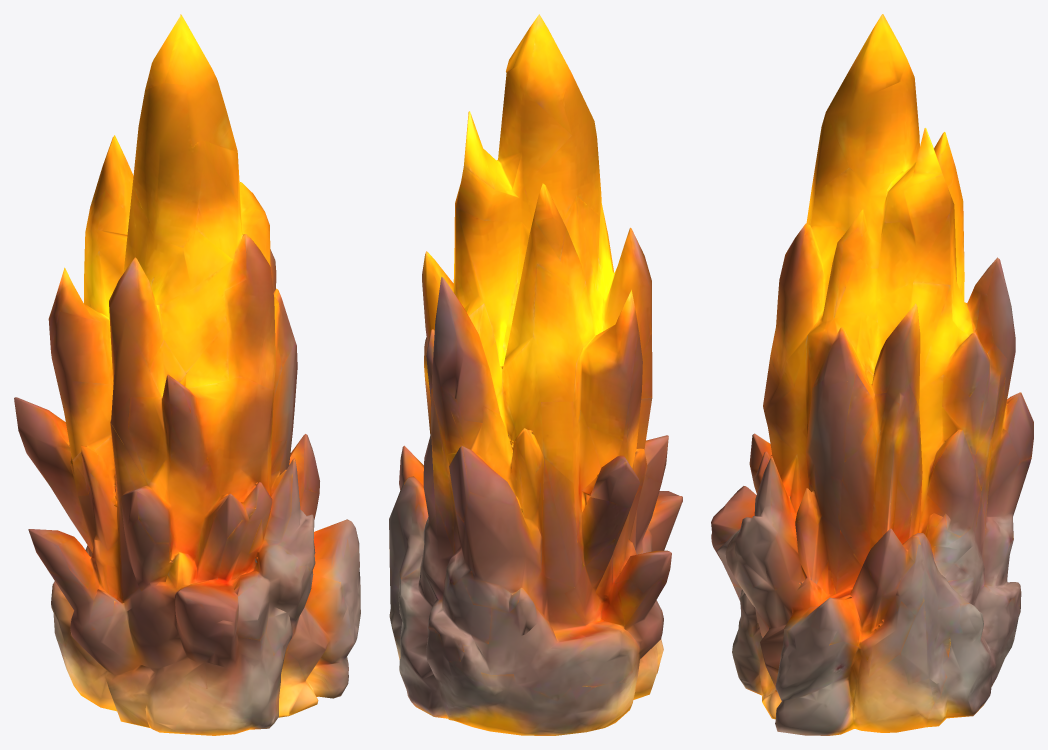
Rendered from deco_crystal.glb.
3 views of the same model, side by side, from view 1: azimuth 30°, elevation 25°; view 2: azimuth 150°, elevation 25°; view 3: azimuth 270°, elevation 25° (orthographic).
Size of the model in its own units: 0.8707 by 1.91 by 0.8391.
1 material, 1 textured.
